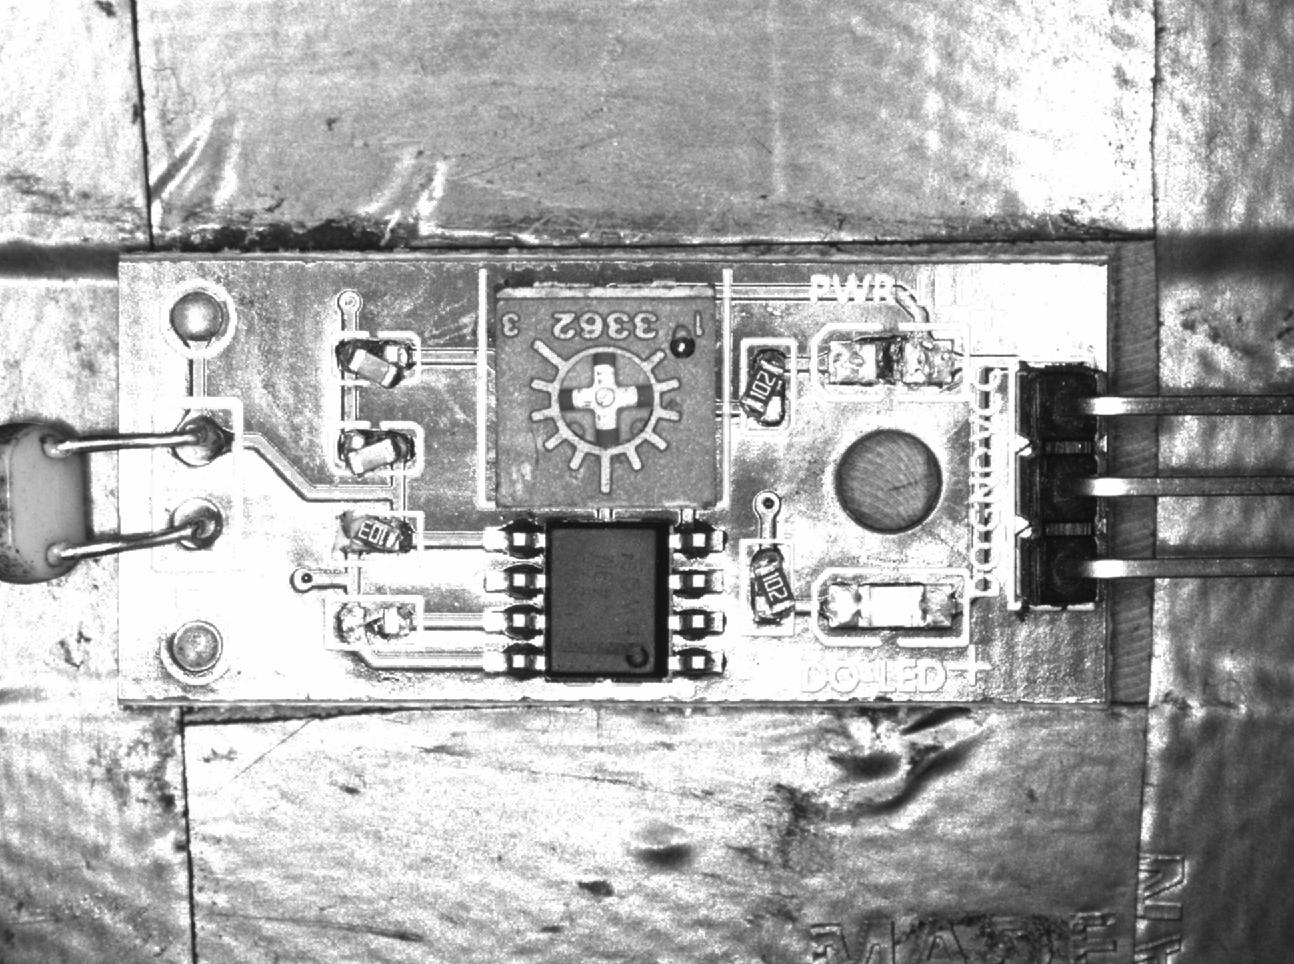lifted: (324, 423, 424, 480), (740, 339, 796, 434), (329, 335, 419, 391), (744, 539, 796, 635), (327, 511, 420, 557)
miss: (327, 596, 421, 647)
